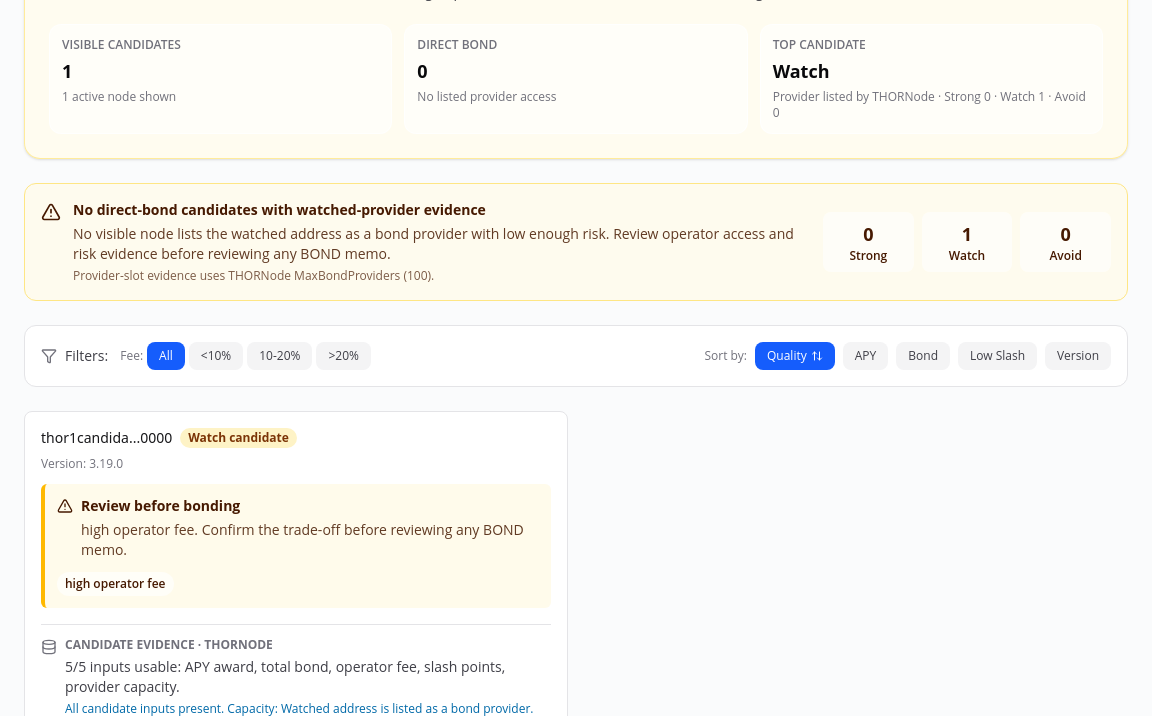
Test: ExplorerPage › offers to show all fees when filters hide every active candidate
The width and height of the screenshot is (1152, 716).
(page scrolled)
Click the button "<10%".
click(216, 356)  # box [189, 342, 243, 370]
(page scrolled)
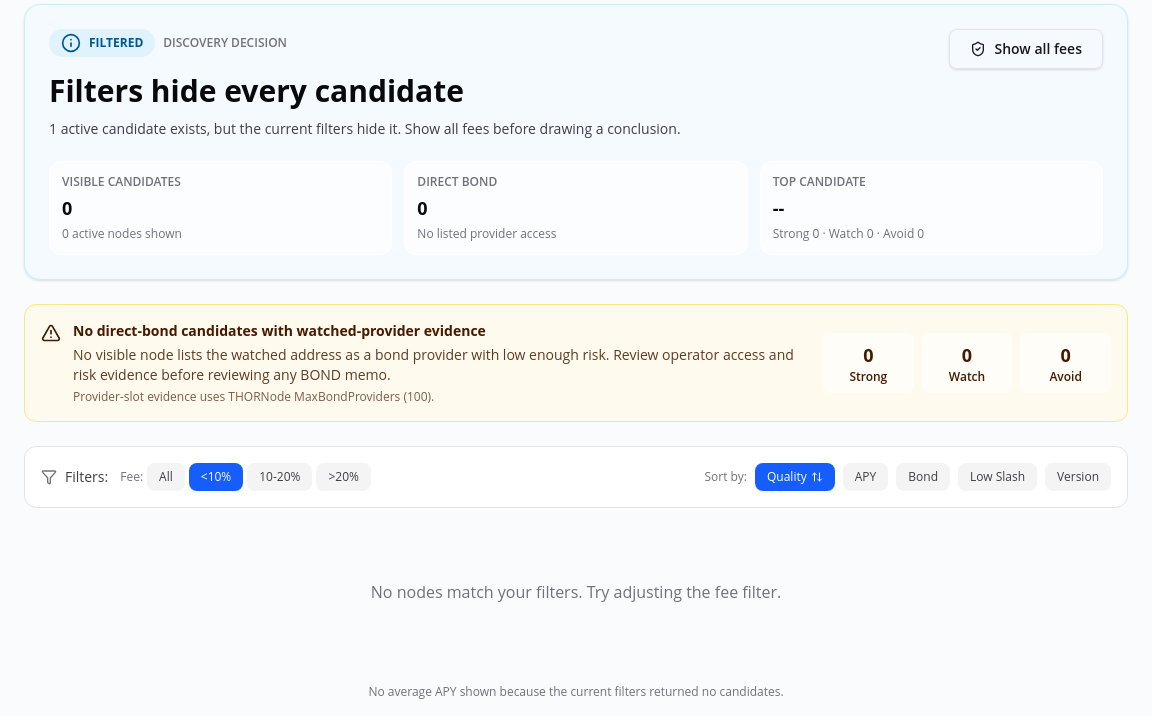
Now the element named "Discovery decision diagnosis" shows "Filters hide every candidate", box [49, 70, 464, 111]
Now the element named "Discovery decision diagnosis" shows "1 active candidate exists, but the current filters hide it", box [49, 119, 681, 138]
Now the text "No nodes match your filters. Try adjusting the fee filter." is shown, box [371, 581, 781, 603]
Click the button "Show all fees".
click(1026, 49)  # box [950, 29, 1103, 69]
(page scrolled)
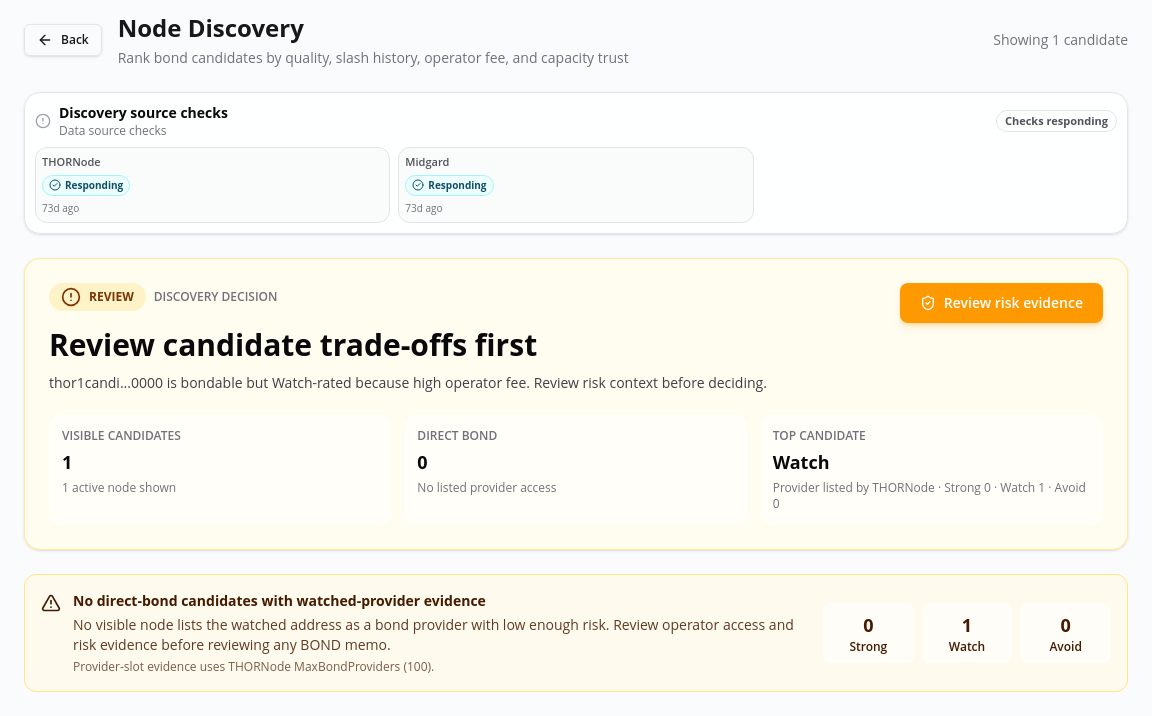
Now the text "Showing 1 candidate" is shown, box [993, 30, 1128, 50]
Now the element named "Discovery decision diagnosis" shows "Review candidate trade-offs first", box [49, 324, 537, 365]
